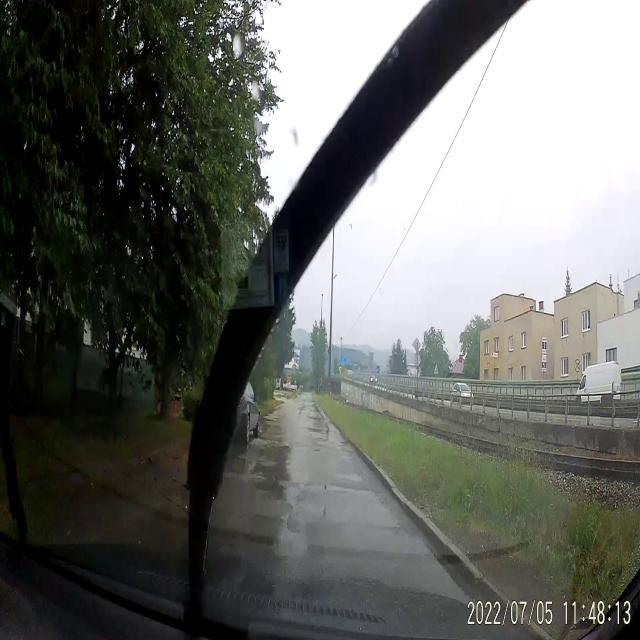Pothole: (320, 482, 378, 499)
